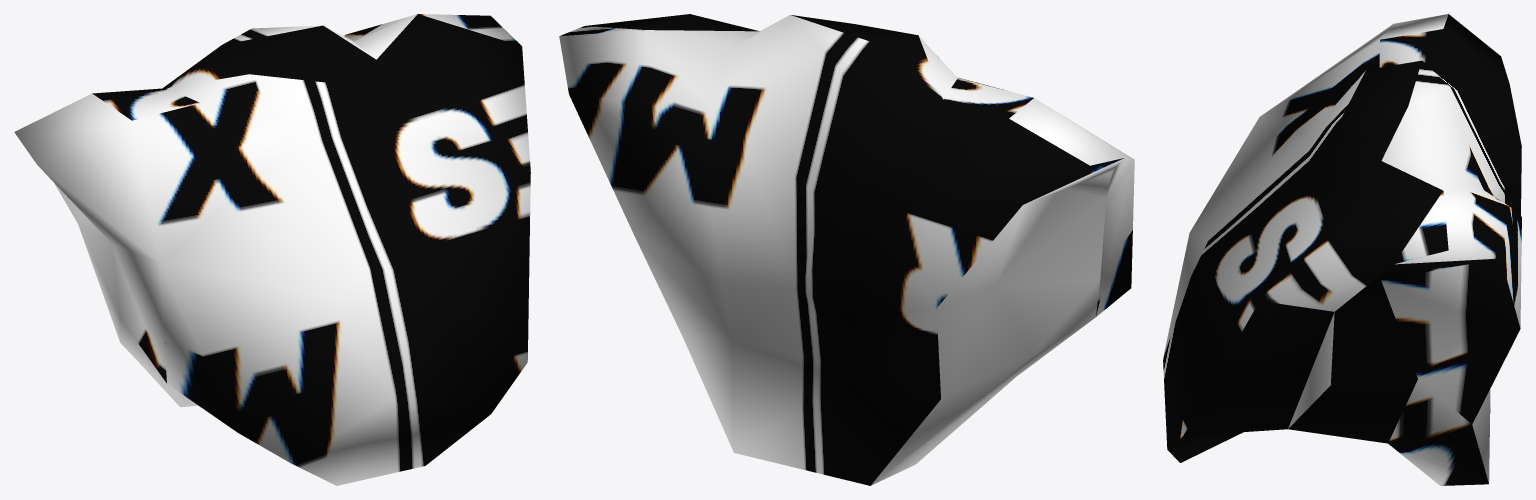
The model's file is spine2.obj.
3 renders of one model, left to right at view 1: azimuth 30°, elevation 25°; view 2: azimuth 150°, elevation 25°; view 3: azimuth 270°, elevation 25°, orthographic. The views are drawn at different scales.
Visible parts, largest first — view 1: Alpha_Surface_Alpha_SurfaceMesh; view 2: Alpha_Surface_Alpha_SurfaceMesh; view 3: Alpha_Surface_Alpha_SurfaceMesh.
Boxes of the visible parts, bbox=[...] form: Alpha_Surface_Alpha_SurfaceMesh: bbox=[14, 14, 530, 485]; Alpha_Surface_Alpha_SurfaceMesh: bbox=[559, 14, 1134, 485]; Alpha_Surface_Alpha_SurfaceMesh: bbox=[1163, 14, 1521, 485].
Size of the model in its own units: 0.4467 by 0.3317 by 0.2816.
